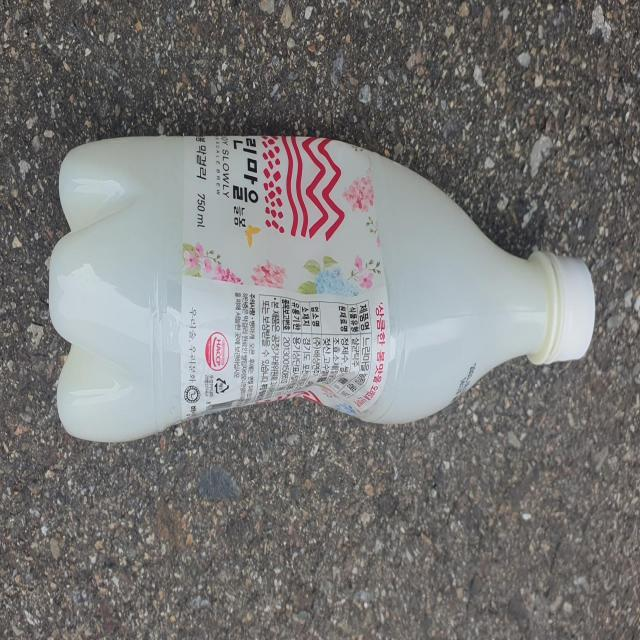plastic: (48, 134, 596, 441)
